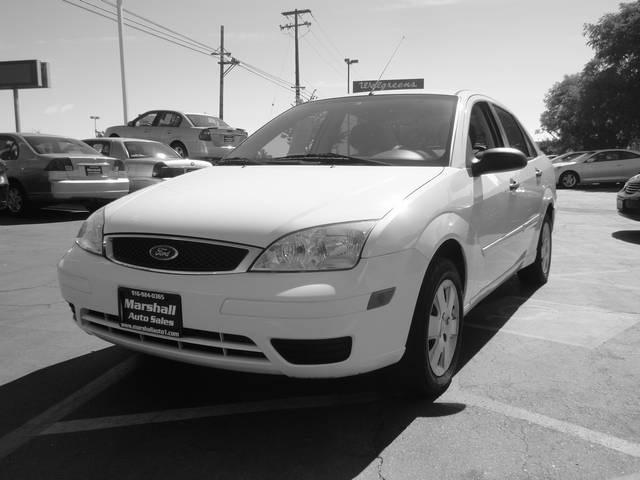car: (60, 91, 559, 389)
